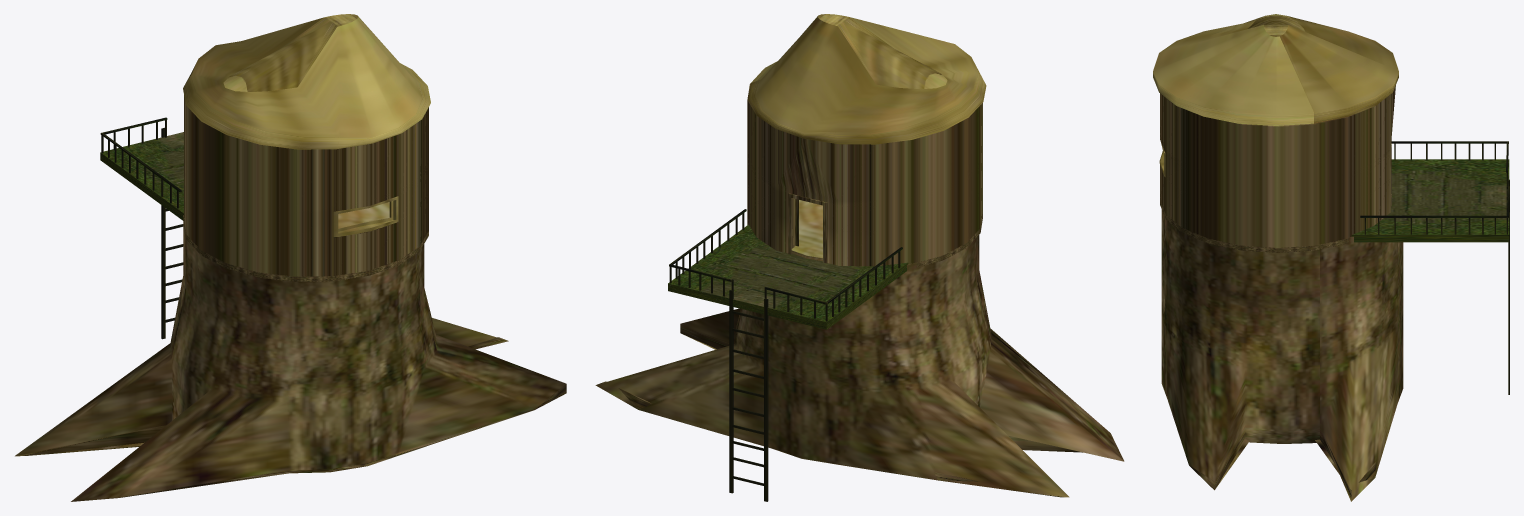
Rendered from Casa.obj.
3 renders of one model, left to right at view 1: azimuth 30°, elevation 25°; view 2: azimuth 150°, elevation 25°; view 3: azimuth 270°, elevation 25°, orthographic. The views are drawn at different scales.
Parts seen in each view (by area): view 1: pCylinder1, pCylinder6, pCylinder5, pCube3, pCube9, pCylinder4, pCube4; view 2: pCylinder1, pCylinder6, pCylinder5, pCube3, pCylinder4, pCube4, pasted__pCube4 group, pCube8; view 3: pCylinder1, pCylinder6, pCylinder5, pCube3, pCube6.
Part boxes in pixels (x1,y1,x2,y2): pCylinder1: [15, 215, 566, 501]; pCylinder6: [184, 95, 428, 281]; pCylinder5: [183, 14, 430, 149]; pCube3: [100, 132, 183, 220]; pCube9: [333, 196, 398, 236]; pCylinder4: [338, 202, 389, 228]; pCube4: [161, 127, 165, 339]; pCylinder1: [595, 235, 1124, 497]; pCylinder6: [747, 69, 982, 267]; pCylinder5: [747, 14, 986, 144]; pCube3: [668, 224, 908, 329]; pCylinder4: [791, 200, 822, 261]; pCube4: [764, 298, 768, 501]; pasted__pCube4 group: [729, 290, 733, 493]; pCube8: [788, 193, 827, 263]; pCylinder1: [1161, 210, 1403, 501]; pCylinder6: [1160, 85, 1395, 252]; pCylinder5: [1153, 14, 1398, 125]; pCube3: [1351, 159, 1509, 242]; pCube6: [1360, 215, 1508, 217].
Size of the model in its own units: 38.77 by 30.5 by 25.82.
Materials: 12 (11 with a texture image).
